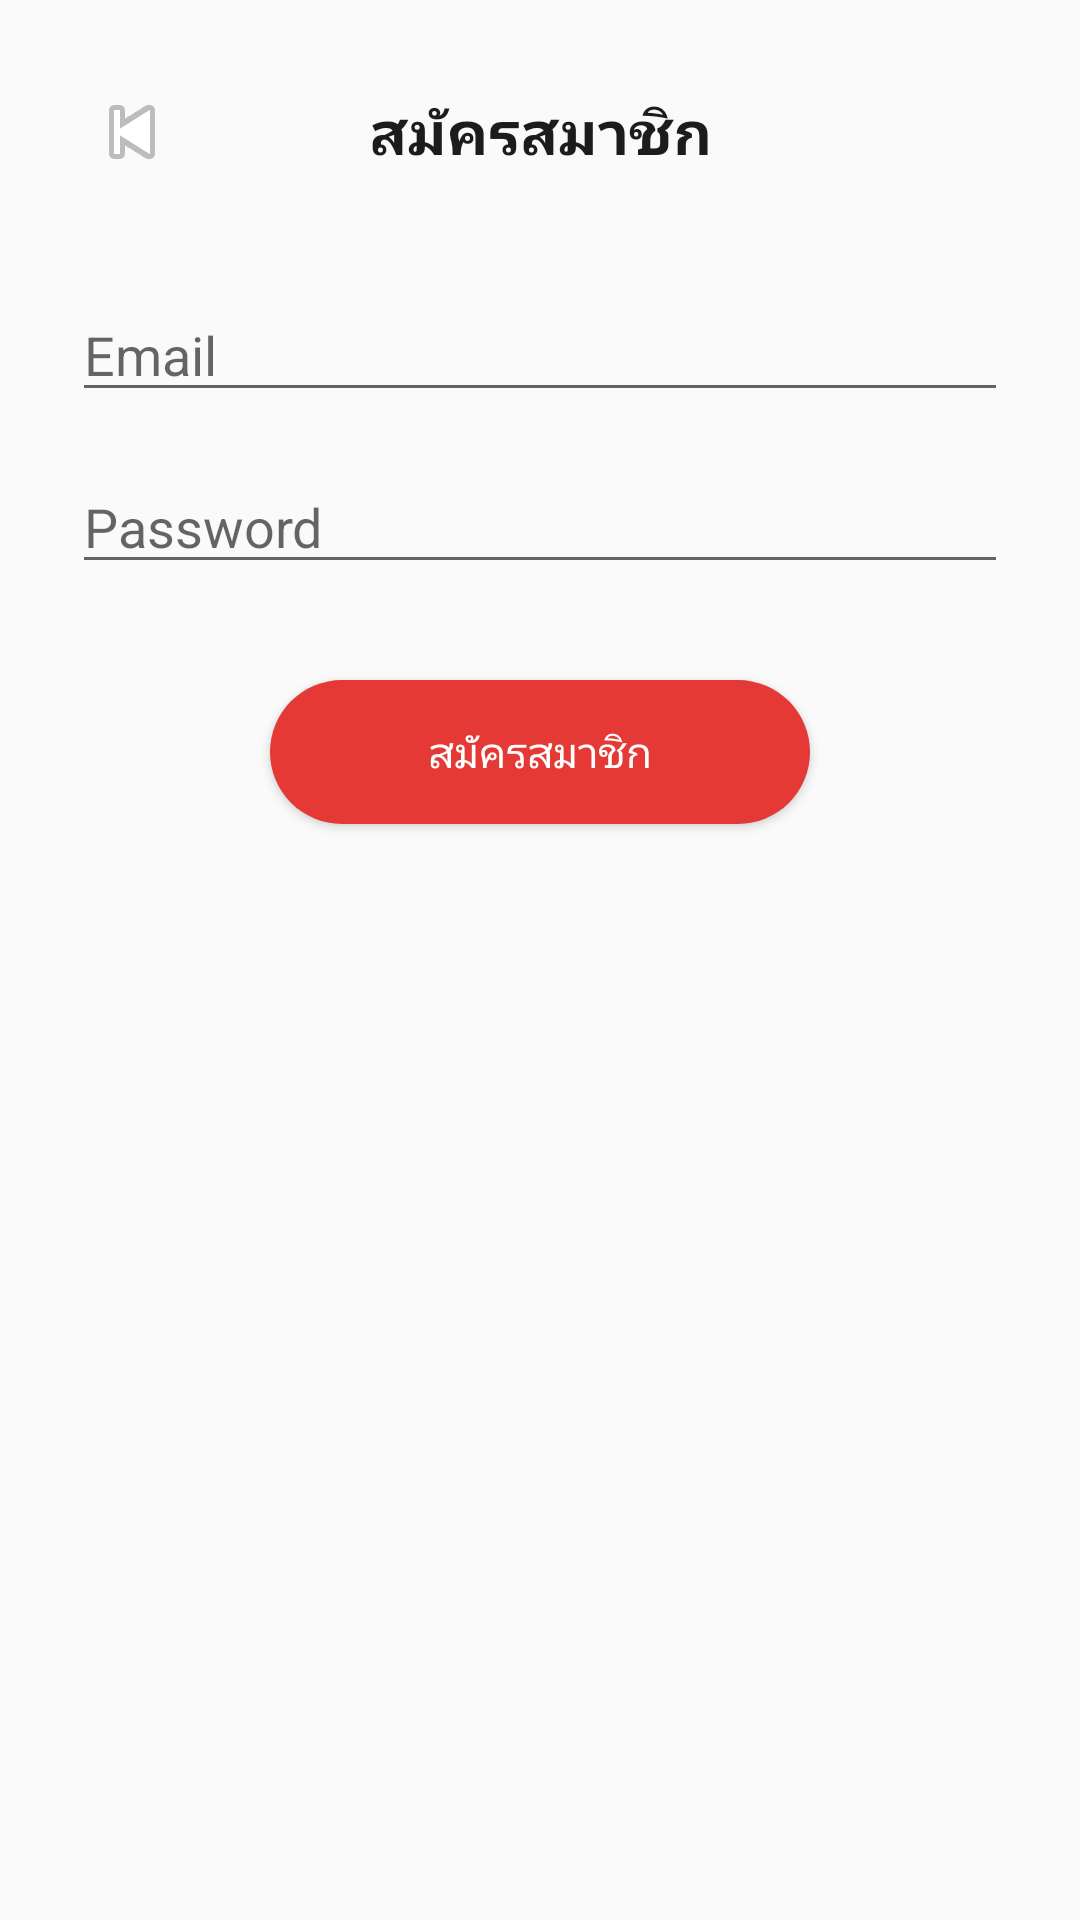

Icon click points for this 1080px×1920px phone screenshot, format (x=x, y=y):
back: (x=132, y=132)
